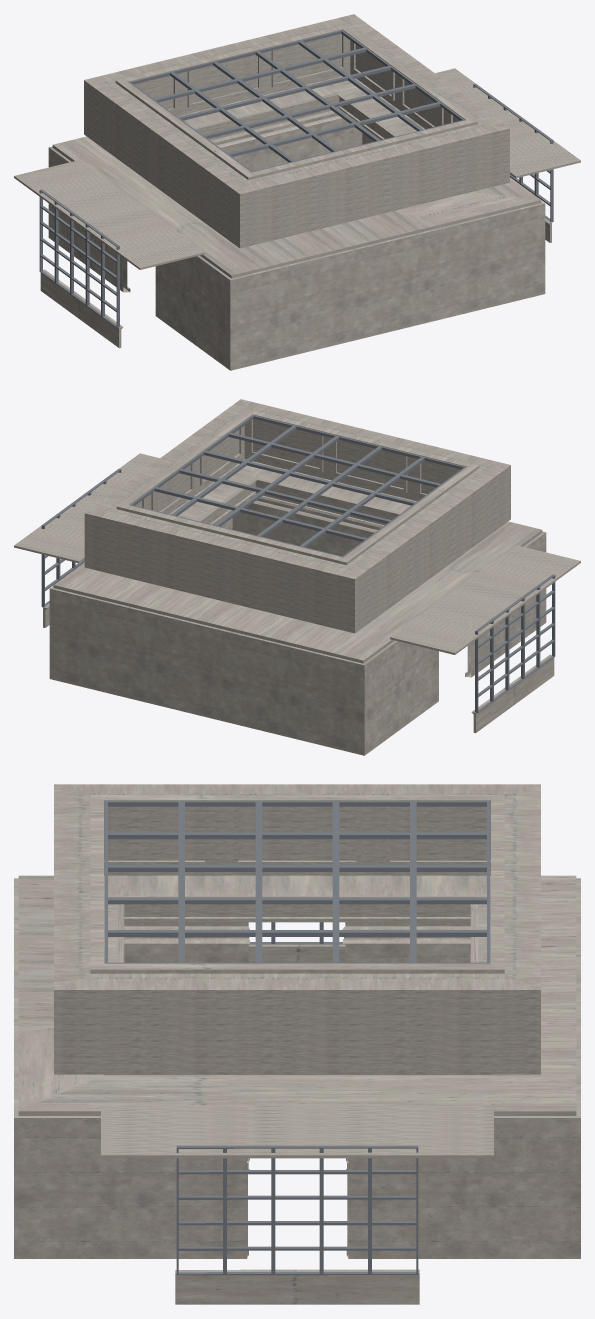
File: Environment_ClassicalWalls_Marbleglb.glb
3 views of the same model, one above another, from view 1: azimuth 30°, elevation 25°; view 2: azimuth 150°, elevation 25°; view 3: azimuth 270°, elevation 25° (orthographic). The views are drawn at different scales.
Visible parts, largest first — view 1: Cube.028, Cube.058, Cube.056, Cube.062, Cube.063, Cube.059, Cube.031, Cube.060; view 2: Cube.028, Cube.058, Cube.056, Cube.062, Cube.063, Cube.059, Cube.031, Cube.060; view 3: Cube.028, Cube.058, Cube.063, Cube.056, Cube.060, Cube.061, Cube.031.
Boxes of the visible parts, left/top/right/bottom form: Cube.028: left=52, top=14, right=541, bottom=278; Cube.058: left=48, top=109, right=545, bottom=370; Cube.056: left=128, top=30, right=465, bottom=172; Cube.062: left=14, top=160, right=204, bottom=269; Cube.063: left=435, top=68, right=580, bottom=178; Cube.059: left=39, top=189, right=119, bottom=328; Cube.031: left=40, top=269, right=123, bottom=348; Cube.060: left=473, top=83, right=553, bottom=222; Cube.028: left=53, top=399, right=542, bottom=663; Cube.058: left=49, top=494, right=546, bottom=755; Cube.056: left=129, top=415, right=466, bottom=557; Cube.062: left=390, top=545, right=580, bottom=654; Cube.063: left=14, top=453, right=159, bottom=563; Cube.059: left=475, top=574, right=555, bottom=713; Cube.031: left=471, top=654, right=554, bottom=733; Cube.060: left=41, top=468, right=121, bottom=607; Cube.028: left=18, top=784, right=576, bottom=1115; Cube.058: left=14, top=878, right=580, bottom=1258; Cube.063: left=101, top=1105, right=493, bottom=1158; Cube.056: left=104, top=801, right=490, bottom=963; Cube.060: left=176, top=1145, right=418, bottom=1275; Cube.061: left=175, top=1269, right=419, bottom=1304; Cube.031: left=248, top=944, right=345, bottom=962.
Size of the model in its own units: 79.87 by 28.67 by 57.02.
4 materials, 3 textured.
